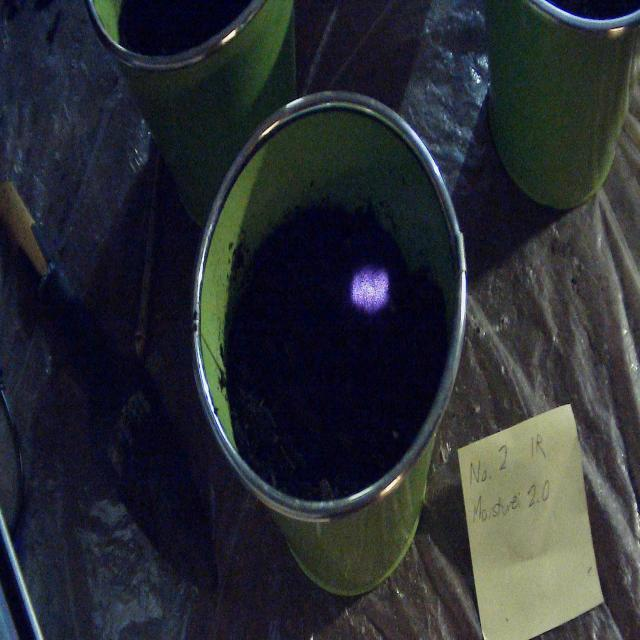soil-moisture-2.0: (350, 267, 390, 313)
